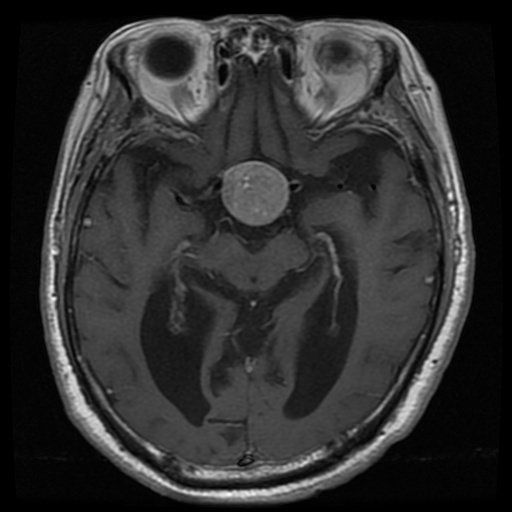pituitary: (222, 161, 288, 227)
